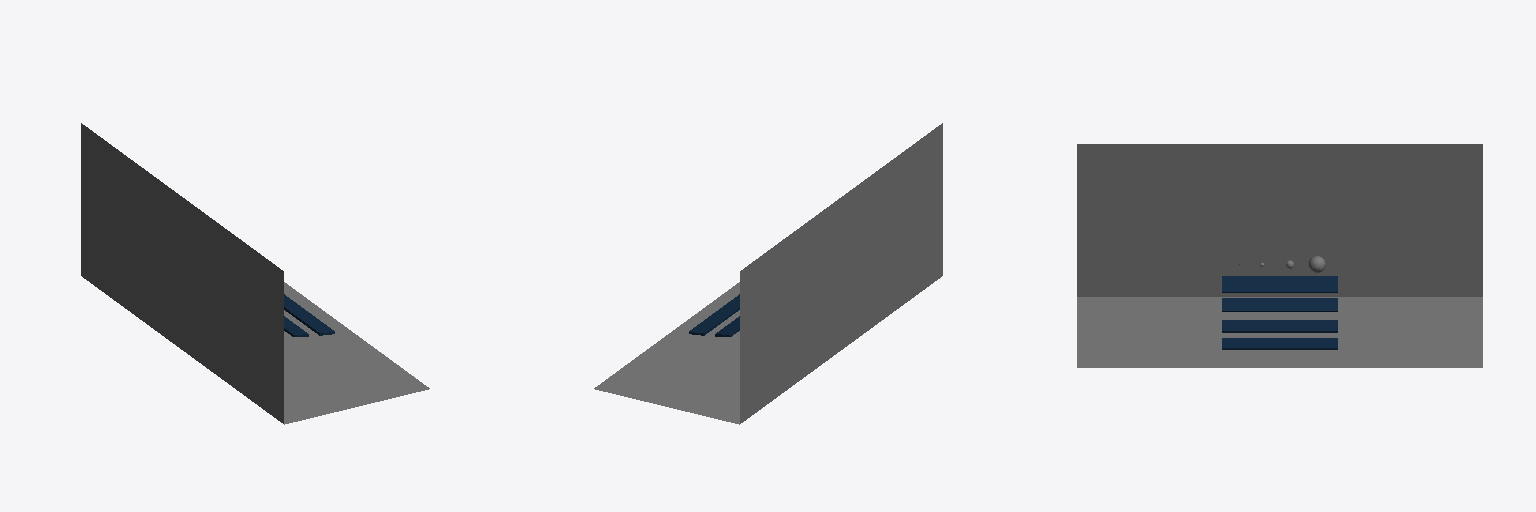
File: veach-mis.obj
The picture shows the model from 3 angles: view 1: azimuth 30°, elevation 25°; view 2: azimuth 150°, elevation 25°; view 3: azimuth 270°, elevation 25°; orthographic projection.
Parts seen in each view (by area): view 1: material0, material4; view 2: material0, material4; view 3: material0, material1, material2, material3, material4.
Part boxes in pixels (bbox=[...]): material0: bbox=[81, 123, 429, 424]; material4: bbox=[284, 294, 334, 335]; material0: bbox=[594, 123, 942, 424]; material4: bbox=[689, 294, 739, 335]; material0: bbox=[1077, 144, 1482, 367]; material1: bbox=[1222, 276, 1337, 292]; material2: bbox=[1222, 298, 1337, 311]; material3: bbox=[1222, 320, 1337, 332]; material4: bbox=[1222, 338, 1337, 349].
Size of the model in its own units: 19.8 by 19.8 by 47.52.